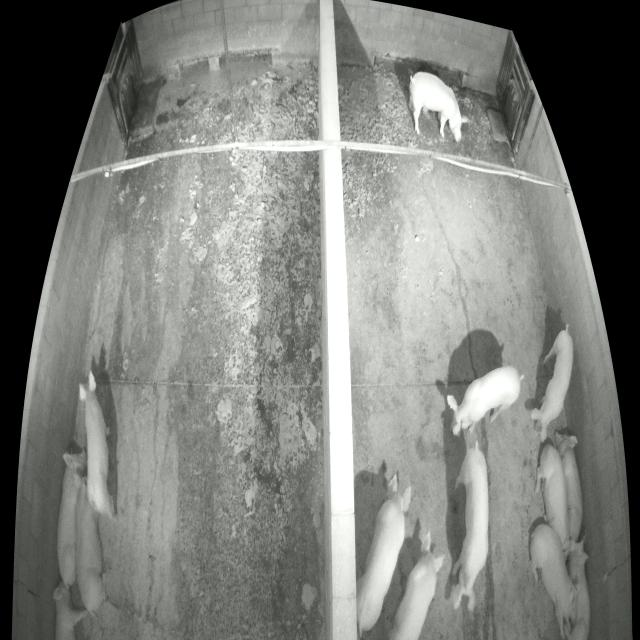pig: (357, 472, 411, 630), (385, 531, 445, 638), (449, 447, 488, 611), (79, 369, 115, 519), (532, 525, 580, 637), (447, 366, 521, 438), (531, 330, 573, 443), (74, 472, 106, 613), (56, 449, 88, 588), (408, 71, 468, 142), (534, 444, 571, 557), (556, 428, 583, 545), (566, 535, 592, 639), (53, 580, 88, 639)
